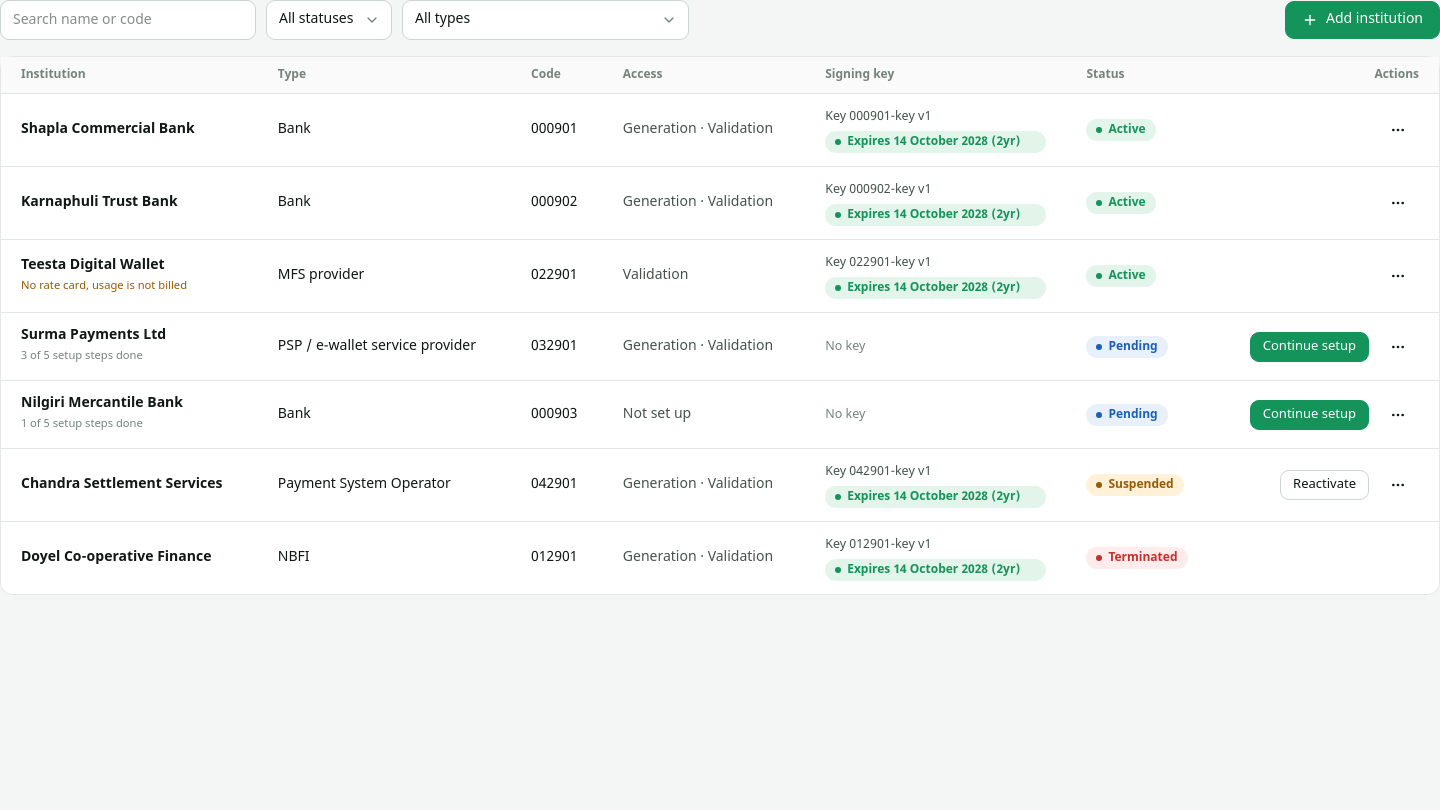
it: institutions list › suspends and reactivates an institution through the API after confirmation
Expected: the link "Shapla Commercial Bank" is shown, [21,120,195,139]
Click the button named "More actions for Shapla Commercial Bank".
click(1398, 130)  # box [1377,115,1419,145]
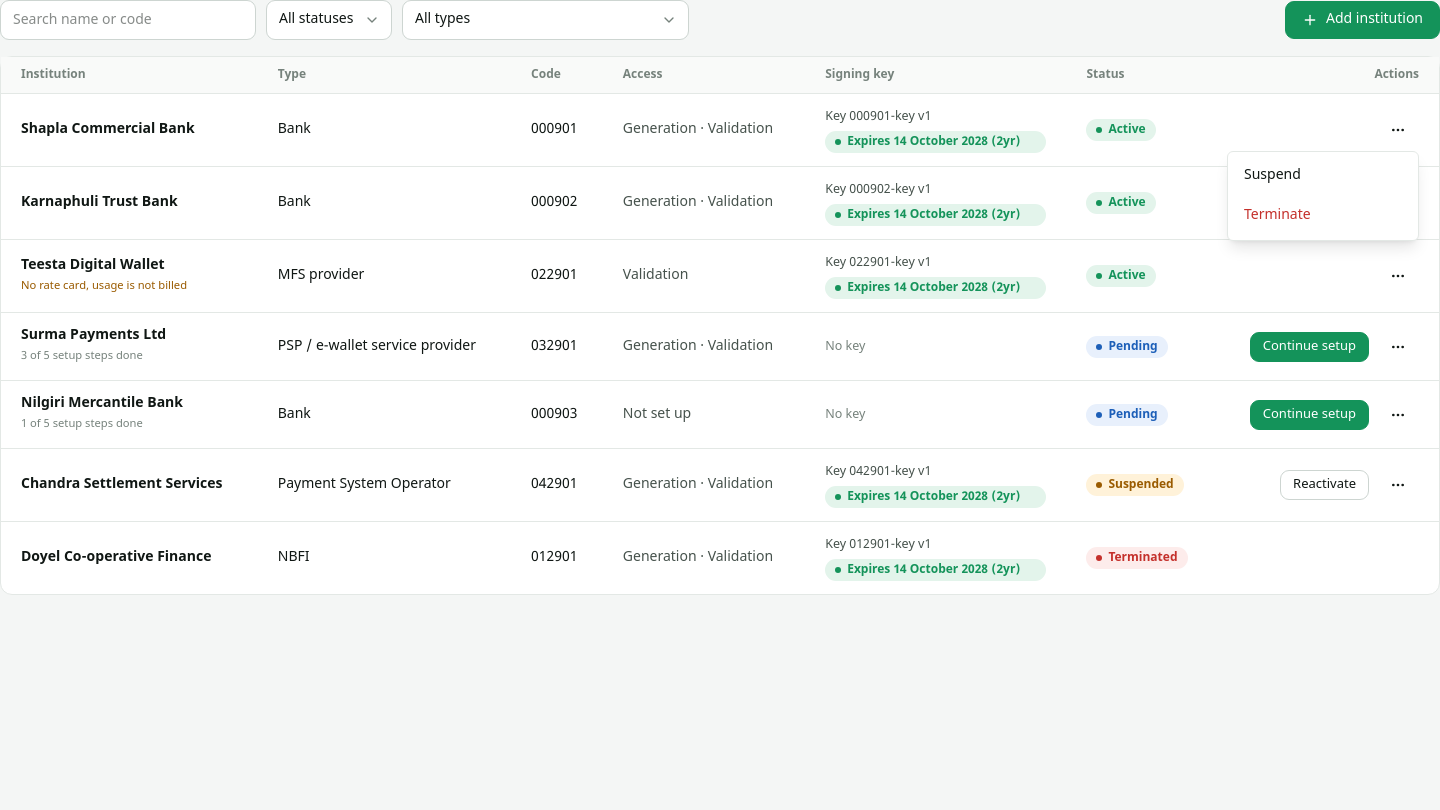
Click the menu item "Suspend".
click(1272, 176)  # box [1244,166,1301,185]
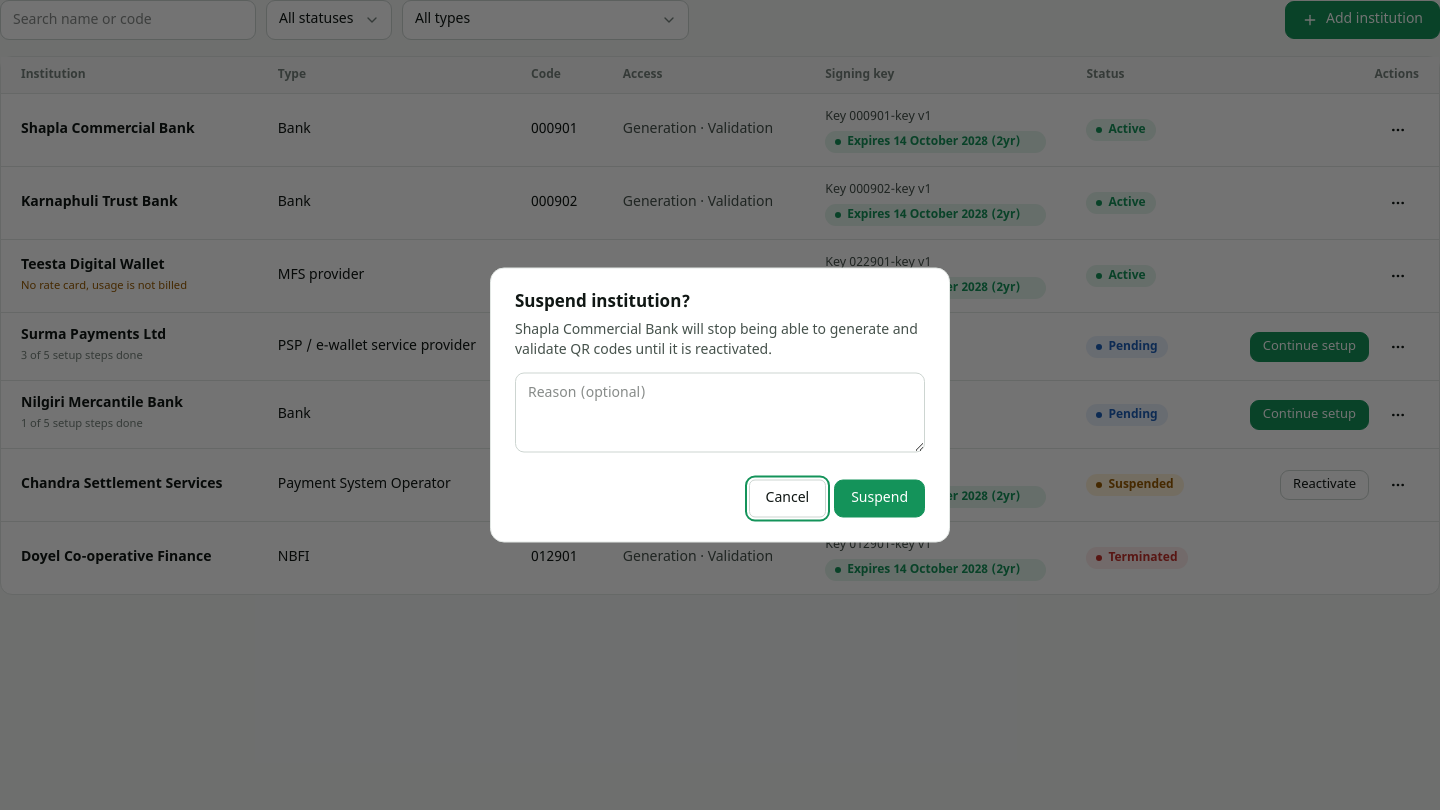
Type "KYC review" into the text box labelled "Reason (optional)".
click(720, 412); type("KYC review")  # box [515,372,925,452]
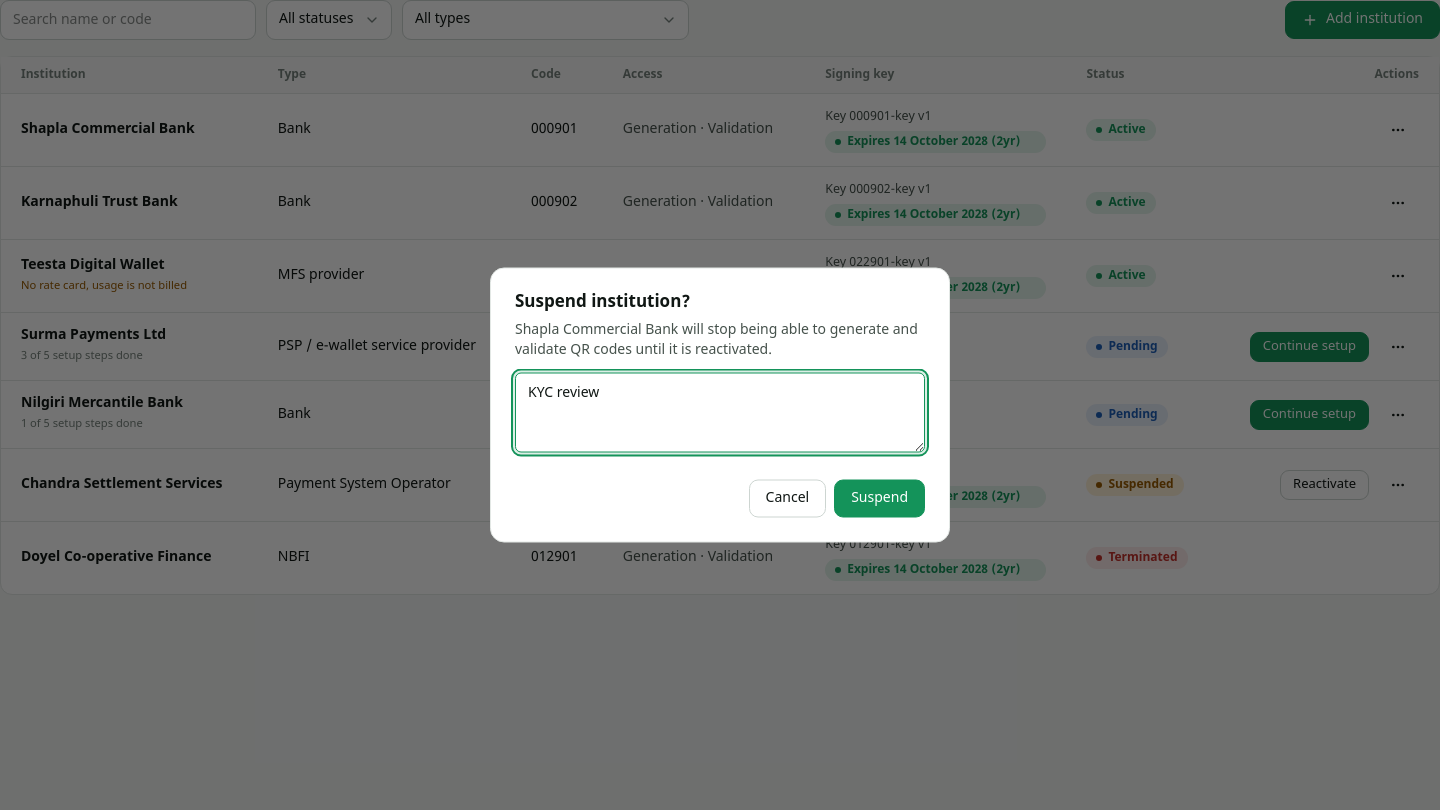
Click the button "Suspend".
click(880, 498)  # box [834,480,925,518]
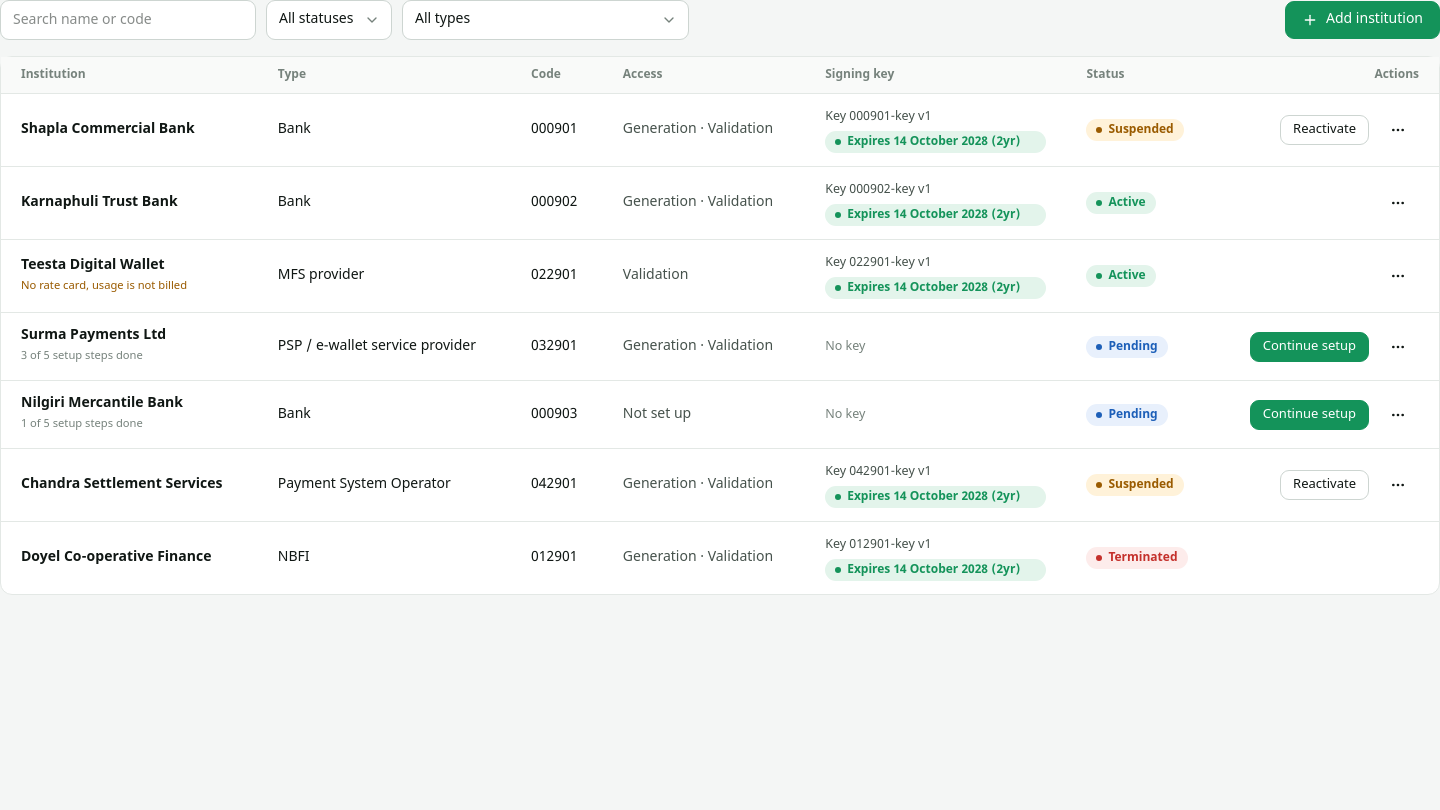
Expected: the text "Suspended" is shown, [1086,119,1184,141]
Click the button "Reactivate" in the row of "Shapla Commercial Bank".
click(1325, 130)  # box [1280,115,1369,145]
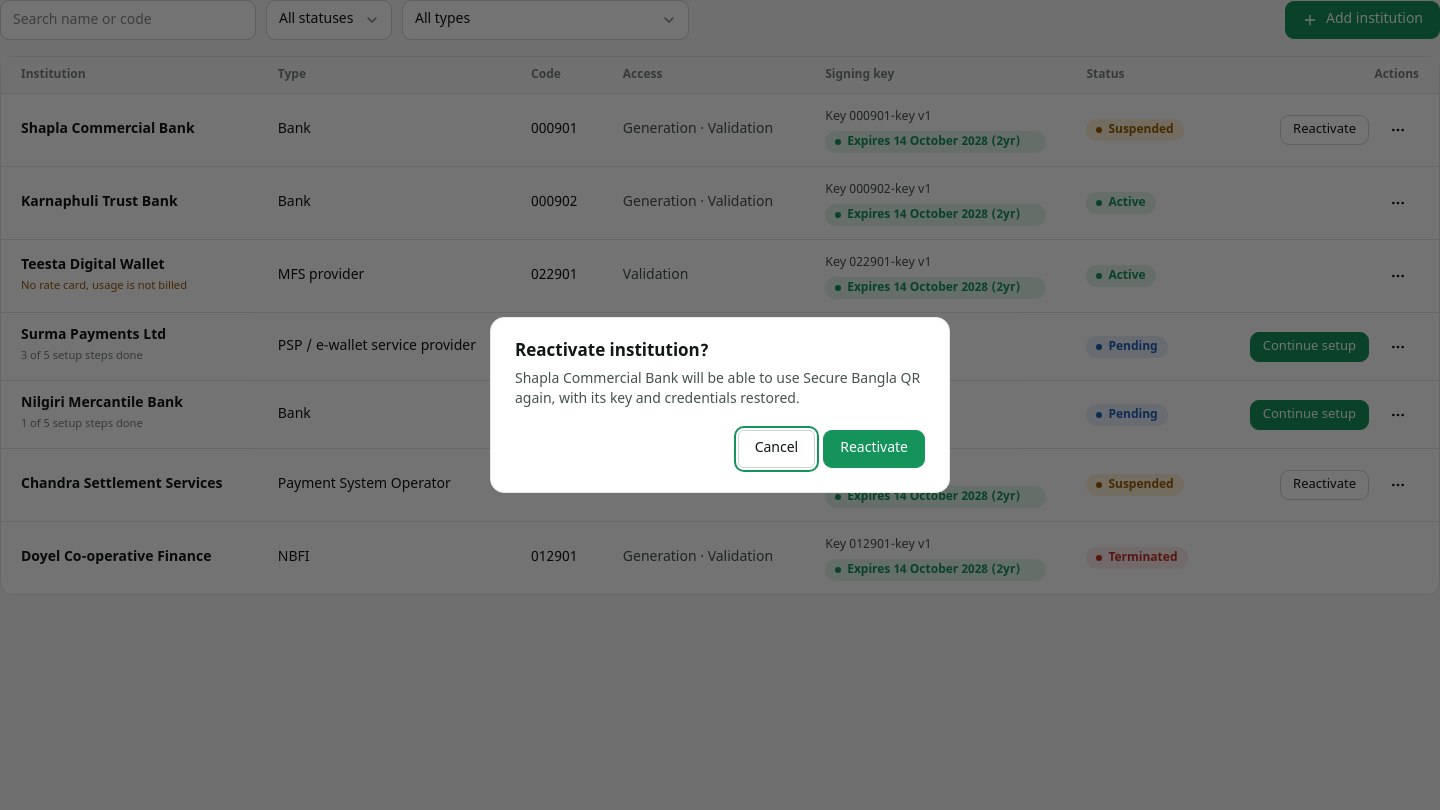
Click the button "Reactivate".
click(874, 449)  # box [823,430,925,468]
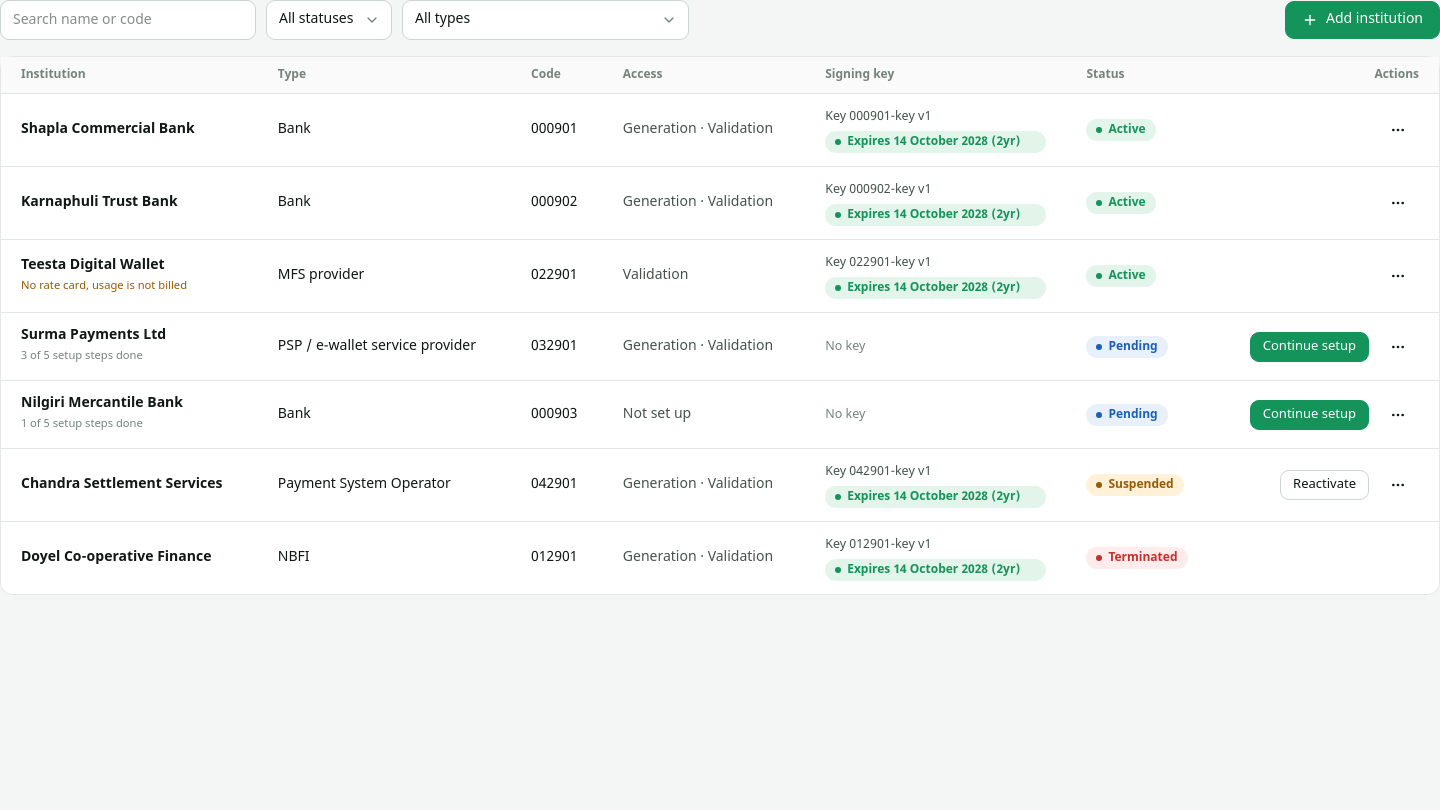
Expected: the text "Active" is shown, [1086,119,1156,141]
